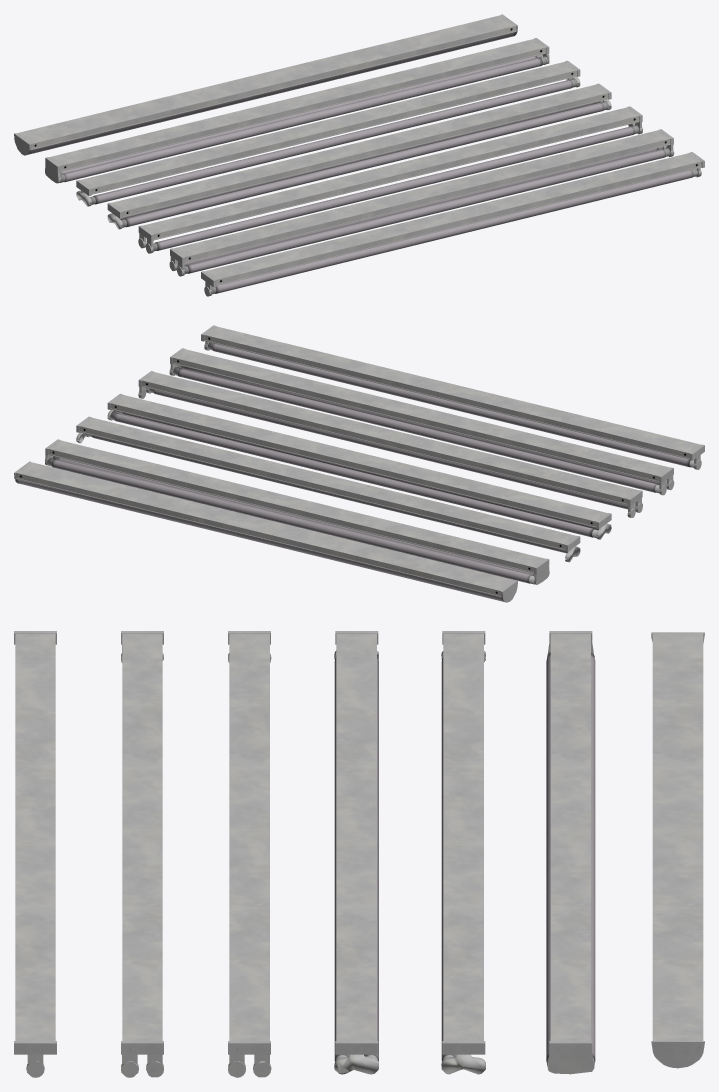
The model's file is mounted_fluorescent_lights.glb.
The picture shows the model from 3 angles, top to bottom: view 1: azimuth 30°, elevation 25°; view 2: azimuth 150°, elevation 25°; view 3: azimuth 270°, elevation 25°; orthographic projection. The views are drawn at different scales.
Visible parts, largest first — view 1: mounted_fluorescent_lights_a; view 2: mounted_fluorescent_lights_a; view 3: mounted_fluorescent_lights_a.
Boxes of the visible parts, x1=… form: mounted_fluorescent_lights_a: x1=14, y1=14, x2=704, y2=296; mounted_fluorescent_lights_a: x1=14, y1=325, x2=704, y2=602; mounted_fluorescent_lights_a: x1=14, y1=631, x2=704, y2=1077.
Bounding box in the file's own units: 0.9122 × 0.0353 × 0.6453.
2 materials, 2 textured.
